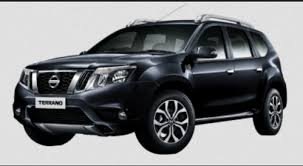Nissan: (18, 23, 272, 144)
